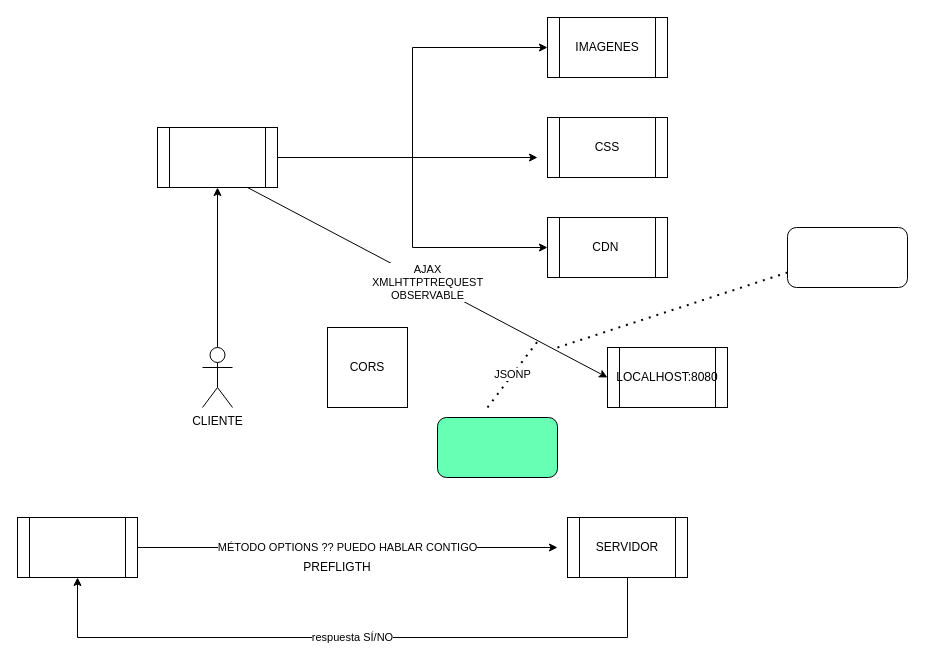
Image size: 925x663. Some labels were removed from this diagram. Here are the shapes that lost their labels. From the top down, the centre of each, then its label:
pixel 217 157: LOCALHOST:4200
pixel 847 257: TIPO MIME RESPUESTA APPLICATION/JSON
pixel 497 447: TIPO MIME RESPUESTA TEXT/JAVASCRIPT
pixel 77 547: ANGULAR
